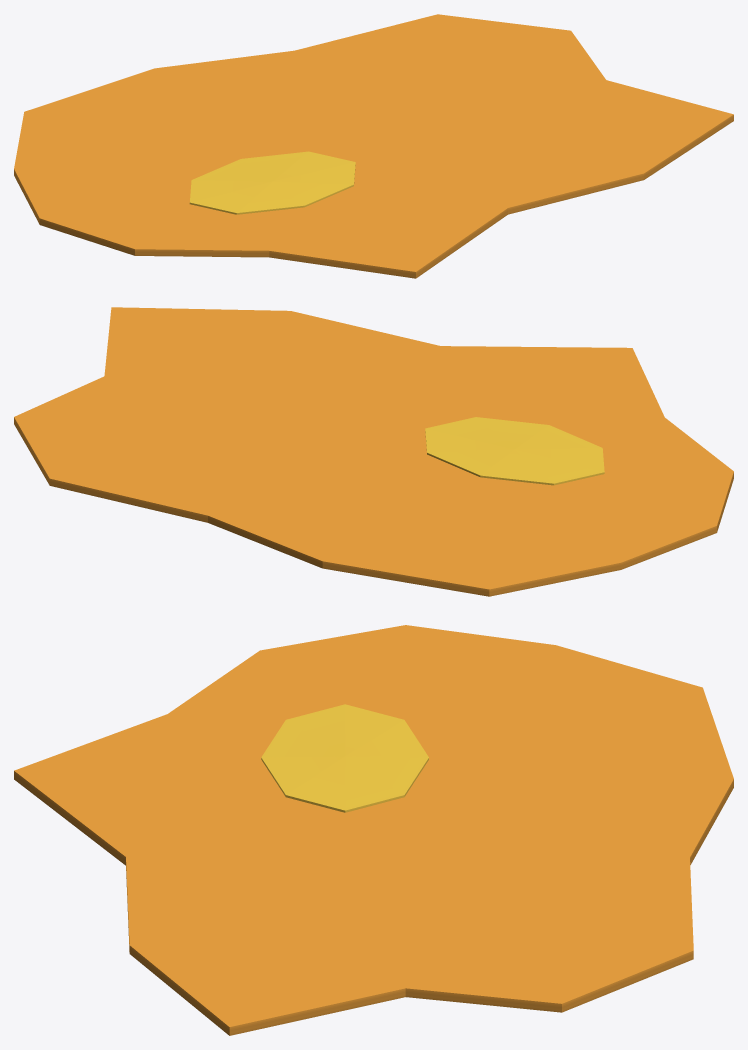
The model's file is Mancha.fbx.
The picture shows the model from 3 angles, top to bottom: view 1: azimuth 30°, elevation 25°; view 2: azimuth 150°, elevation 25°; view 3: azimuth 270°, elevation 25°; orthographic projection. The views are drawn at different scales.
Visible parts, largest first — view 1: Mancha_Malha; view 2: Mancha_Malha; view 3: Mancha_Malha.
Part boxes in pixels (x1,y1,x2,y2): Mancha_Malha: (14, 14, 733, 278); Mancha_Malha: (14, 307, 733, 596); Mancha_Malha: (14, 625, 733, 1035).
Bounding box in the file's own units: 0.7858 × 0.011 × 0.5945.
